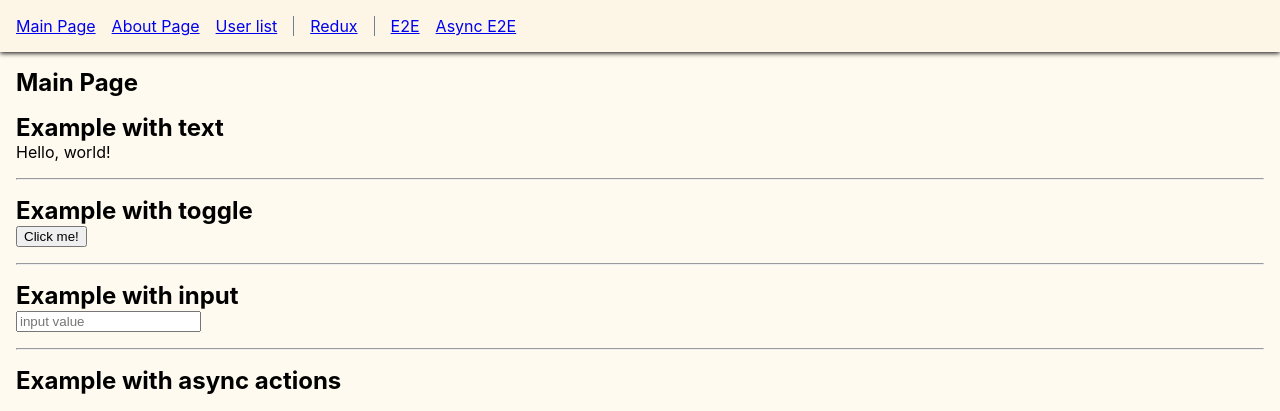
Scenario: Navbar tests :>> › Navigation to Users Page
Click the link with test id "users-link": (246, 26) [216,16,277,36]
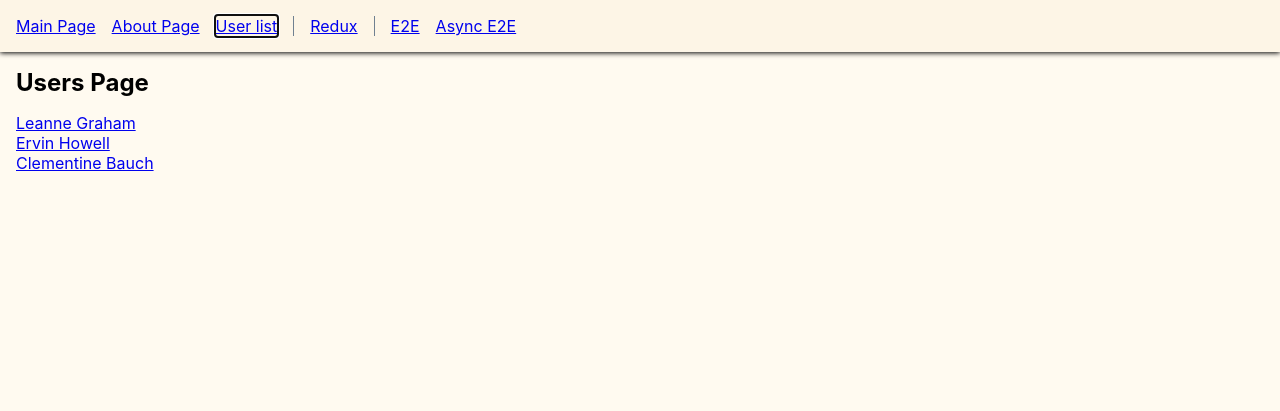
Expected: the heading "Users Page" is shown, [16,68,149,97]
